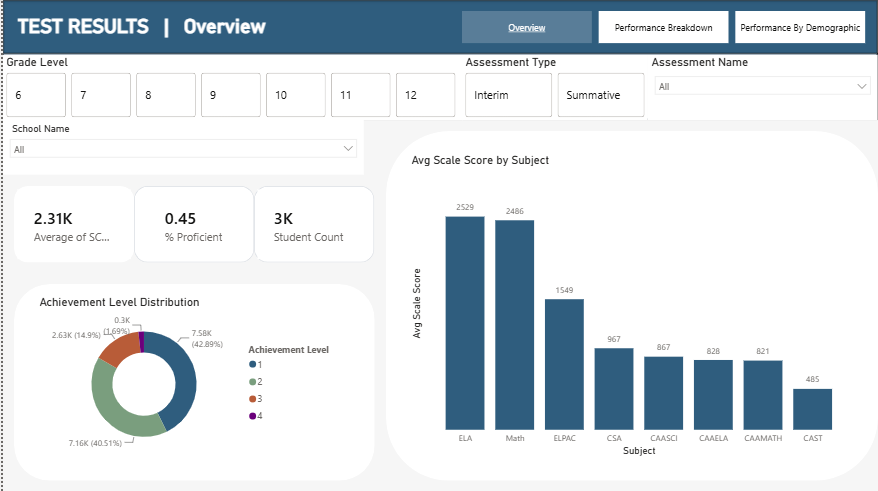

Layout of this report page (visuals, bound fields, positions):
{"tool":"powerbi","page":{"name":"Overview","canvas":[1280,720],"ordinal":0},"visuals":[{"type":"shape","box":[0,0,1280,79.4],"z":0,"group":"g1"},{"type":"group","id":"g1","title":"Group 1","box":[0,0,1280,176],"z":0},{"type":"shape","box":[0,78.2,1280,97.8],"z":1000,"group":"g1"},{"type":"shape","box":[16,272,176,112],"z":1000},{"type":"textbox","box":[16,0,528,80],"z":2000},{"type":"advancedSlicerVisual","title":"Grade Level","fields":{"Values":["FACT_TEST_EVENTS.GRADELEVELWHENASSESSED"]},"box":[0,80,672,96],"z":3000},{"type":"advancedSlicerVisual","title":"Assessment Type","fields":{"Values":["DIM_ASSESSMENTS.ASSESSMENTTYPE"]},"box":[672,80,272,96],"z":4000},{"type":"slicer","title":"Assessment Name","fields":{"Values":["DIM_ASSESSMENTS.ASSESSMENTNAME"]},"box":[944,80,336,96],"z":5000},{"type":"cardVisual","fields":{"Data":["Avg(FACT_TEST_EVENTS.SCALESCORE)"]},"box":[16,272,176,112],"z":6000},{"type":"shape","box":[192,272,176,112],"z":7000},{"type":"shape","box":[368,272,176,112],"z":8000},{"type":"cardVisual","fields":{"Data":["FACT_TEST_EVENTS.% Proficient"]},"box":[208,272,144,112],"z":9000},{"type":"cardVisual","fields":{"Data":["FACT_TEST_EVENTS.Student Count"]},"box":[368,272,160,112],"z":10000},{"type":"shape","box":[16,416,528,288],"z":11000},{"type":"shape","box":[560,192,720,512],"z":12000},{"type":"clusteredColumnChart","title":"Avg Scale Score by Subject","fields":{"Category":["DIM_ASSESSMENTS.SUBJECT"],"Y":["Avg(FACT_TEST_EVENTS.SCALESCORE)"]},"box":[592,224,656,448],"z":13000},{"type":"donutChart","title":"Achievement Level Distribution","fields":{"Category":["FACT_TEST_EVENTS.SCALESCOREACHIEVEMENTLEVEL","FACT_TEST_EVENTS.SCALESCOREACHIEVEMENTLEVEL Hierarchy.SCALESCOREACHIEVEMENTLEVEL"],"Y":["CountNonNull(FACT_TEST_EVENTS.SCALESCOREACHIEVEMENTLEVEL)"]},"box":[48,432,448,240],"z":14000},{"type":"slicer","fields":{"Values":["DIM_SCHOOLS.SCHOOL_NAME"]},"box":[0,176,528,80],"z":15000},{"type":"pageNavigator","box":[672,16,592,48],"z":16000}]}

Visuals, with their boxes in screenshot pixels (x1, y1, x2, y2), scaled from the page's 1280x720 canvas onto the 878x491 screenshot:
shape: {"x1": 0, "y1": 0, "x2": 877, "y2": 54}
"Group 1" group: {"x1": 0, "y1": 0, "x2": 877, "y2": 120}
shape: {"x1": 0, "y1": 53, "x2": 877, "y2": 120}
shape: {"x1": 11, "y1": 185, "x2": 132, "y2": 262}
textbox: {"x1": 11, "y1": 0, "x2": 373, "y2": 55}
"Grade Level" advancedSlicerVisual: {"x1": 0, "y1": 55, "x2": 461, "y2": 120}
"Assessment Type" advancedSlicerVisual: {"x1": 461, "y1": 55, "x2": 648, "y2": 120}
"Assessment Name" slicer: {"x1": 648, "y1": 55, "x2": 877, "y2": 120}
cardVisual - Avg(FACT_TEST_EVENTS.SCALESCORE): {"x1": 11, "y1": 185, "x2": 132, "y2": 262}
shape: {"x1": 132, "y1": 185, "x2": 252, "y2": 262}
shape: {"x1": 252, "y1": 185, "x2": 373, "y2": 262}
cardVisual - FACT_TEST_EVENTS.% Proficient: {"x1": 143, "y1": 185, "x2": 241, "y2": 262}
cardVisual - FACT_TEST_EVENTS.Student Count: {"x1": 252, "y1": 185, "x2": 362, "y2": 262}
shape: {"x1": 11, "y1": 284, "x2": 373, "y2": 480}
shape: {"x1": 384, "y1": 131, "x2": 877, "y2": 480}
"Avg Scale Score by Subject" clusteredColumnChart: {"x1": 406, "y1": 153, "x2": 856, "y2": 458}
"Achievement Level Distribution" donutChart: {"x1": 33, "y1": 295, "x2": 340, "y2": 458}
slicer - DIM_SCHOOLS.SCHOOL_NAME: {"x1": 0, "y1": 120, "x2": 362, "y2": 175}
pageNavigator: {"x1": 461, "y1": 11, "x2": 867, "y2": 44}
